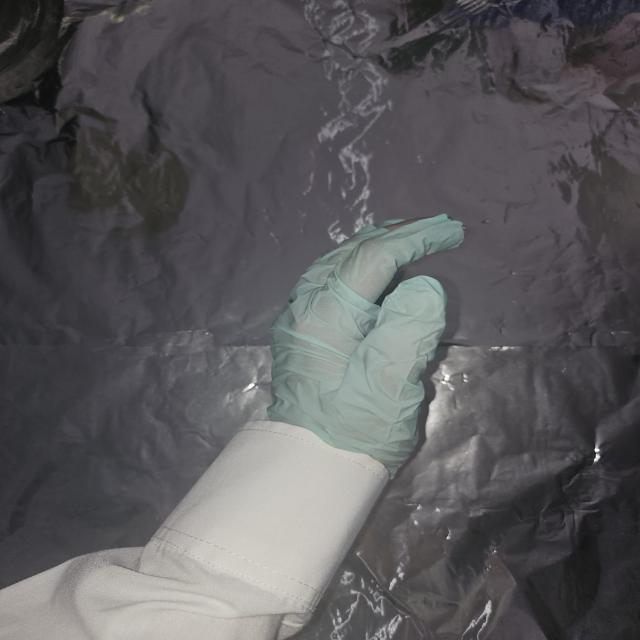gloves_damaged: (265, 210, 467, 476)
